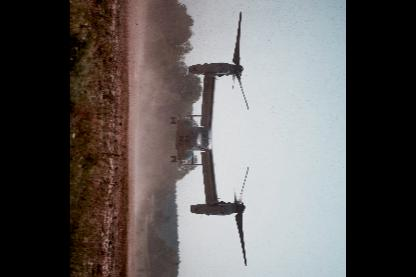Tornado: (171, 10, 249, 264)
